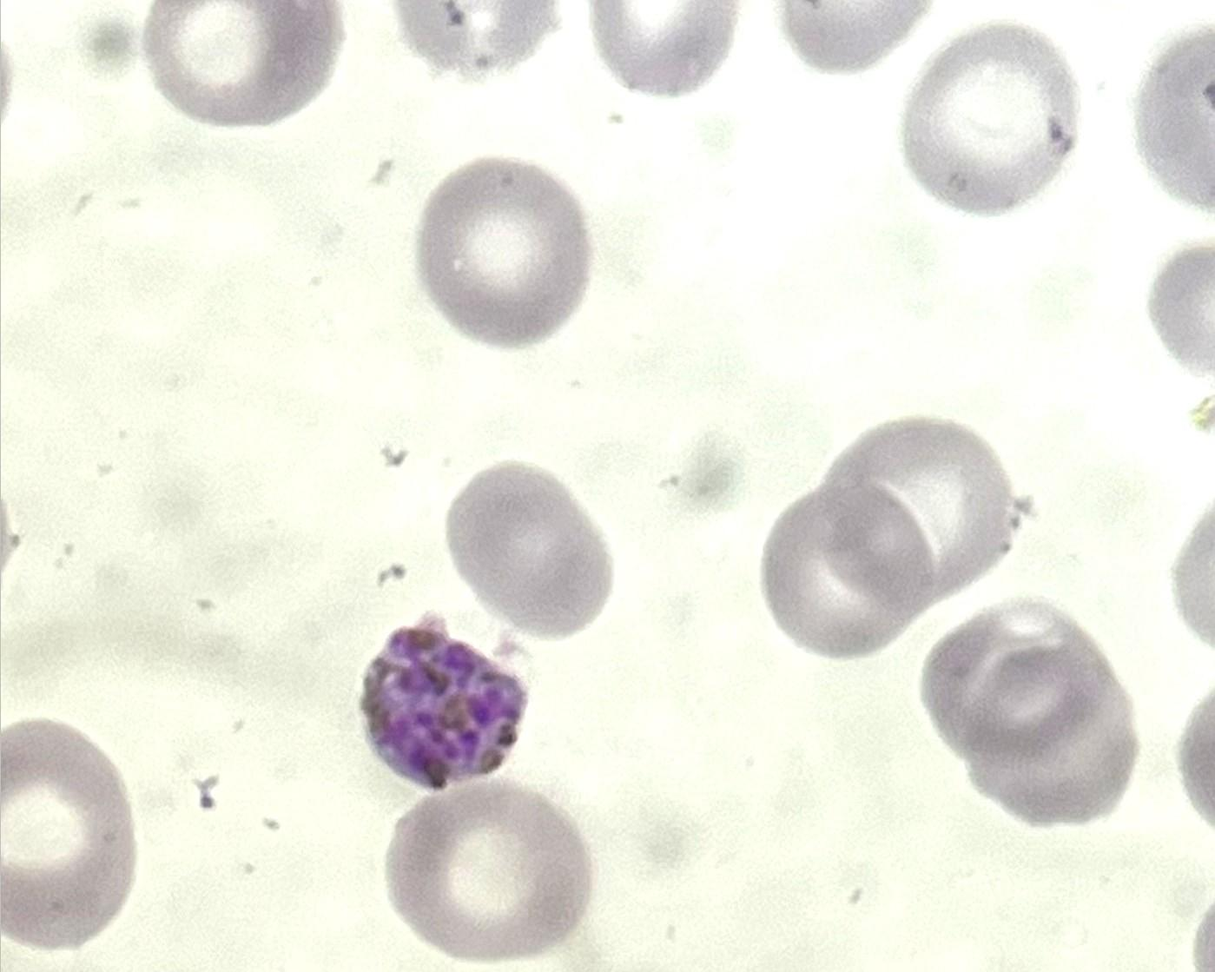Infected: (360, 613, 530, 788)
Uninfected: (760, 416, 1015, 651), (921, 601, 1137, 822), (385, 781, 588, 959), (905, 27, 1084, 218), (415, 157, 590, 344), (1, 720, 138, 948), (452, 461, 621, 637)
